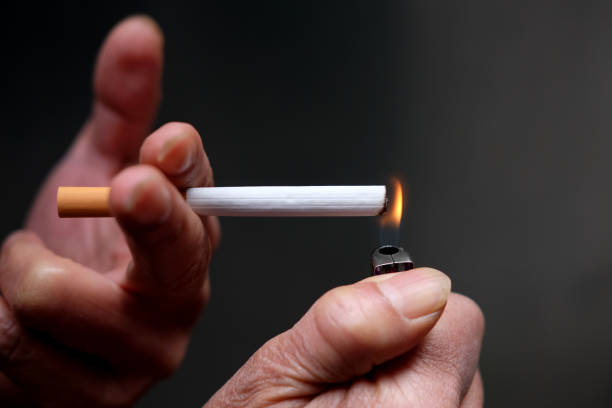cigarette: (55, 182, 389, 219)
